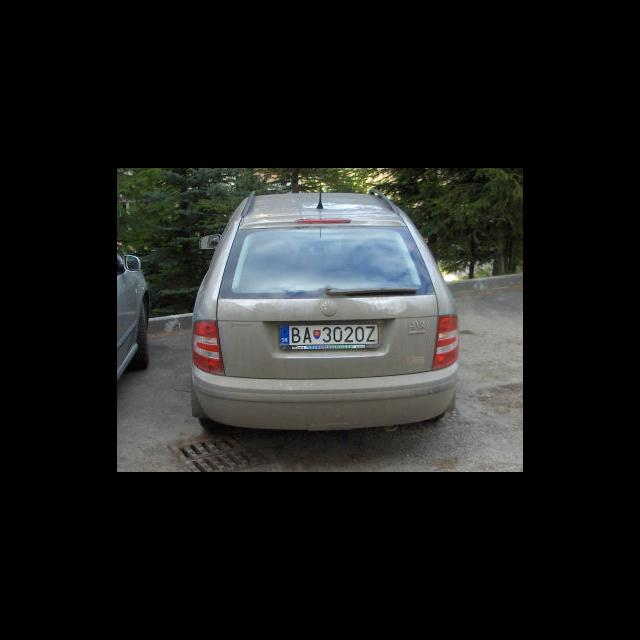Plate: (278, 322, 380, 347)
